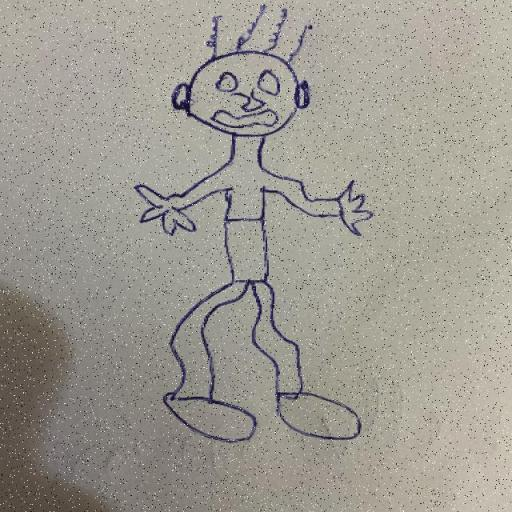person: (99, 5, 444, 463)
